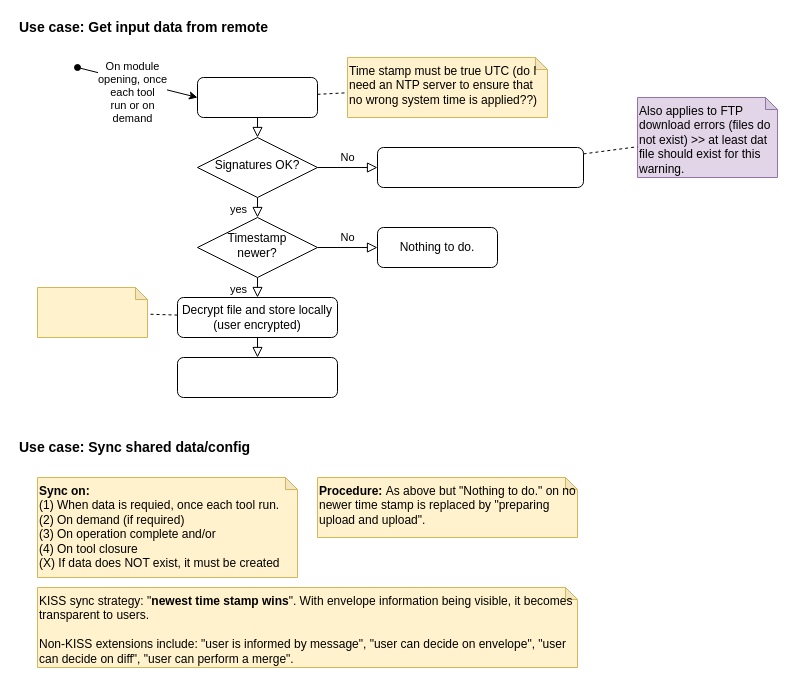
Some shapes in this 795 by 685 pixel diagram are drawn without their labels. The shapes that lost their labels are listed below. From the top down, each one's centre as x and y in pixels, then its label:
At pixel 257 97: "Get <file>.dat and <file>.done".
At pixel 480 167: "Warning: Download corrupted. Try again. Send report if problem persists.".
At pixel 92 312: "Local copy must retain meta data (time stamp)".
At pixel 257 377: "GUI: Display input data timestamp and source.".
